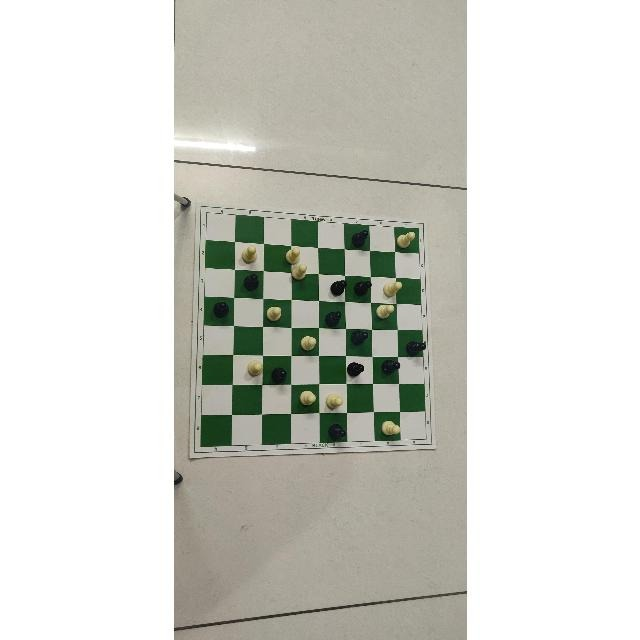black-pawn: (265, 364, 293, 387), (238, 271, 262, 293), (206, 300, 231, 321), (349, 224, 369, 250), (404, 338, 427, 360), (328, 278, 348, 299), (324, 424, 345, 443), (354, 277, 375, 295), (380, 357, 402, 374), (342, 362, 364, 378), (321, 310, 341, 327), (351, 329, 369, 346)
white-pawn: (392, 228, 416, 251), (381, 276, 403, 301), (236, 244, 258, 267), (298, 388, 318, 412), (282, 245, 304, 265), (380, 417, 400, 438), (297, 335, 318, 355), (244, 358, 266, 377), (264, 303, 284, 323), (324, 394, 344, 412), (376, 303, 396, 321), (288, 266, 311, 281)
